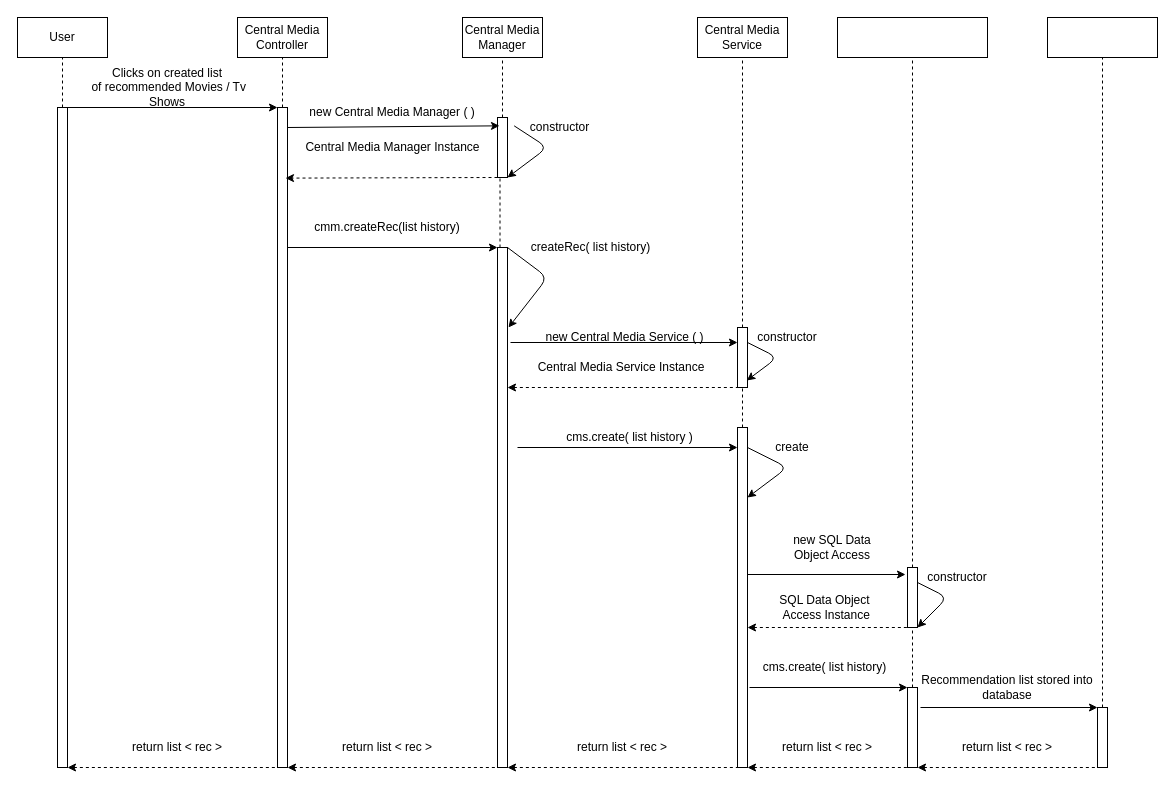
Some shapes in this 1175 by 793 pixel diagram are drawn without their labels. Here are the shapes that lost their labels. From the top down, the centre of each, then its label:
At point 912,37: "SQL Data Access Object".
At point 1102,37: "SQL Server".
